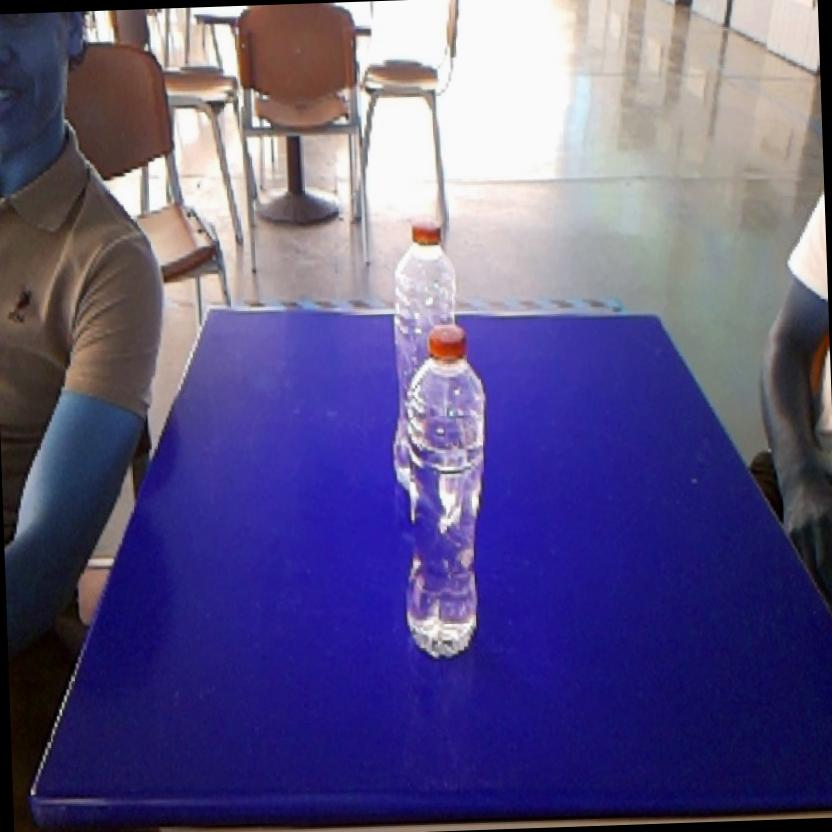no_label: (384, 316, 506, 672), (385, 206, 469, 325)
